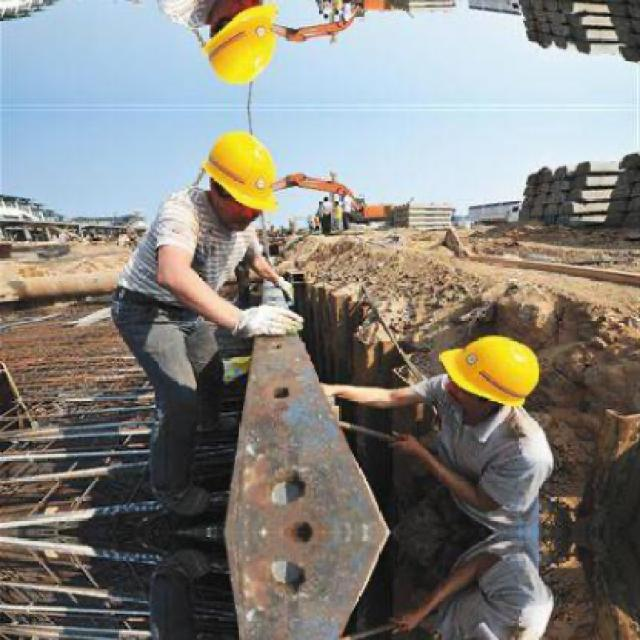helmet: (191, 115, 289, 237), (189, 0, 289, 98), (445, 331, 543, 417)
